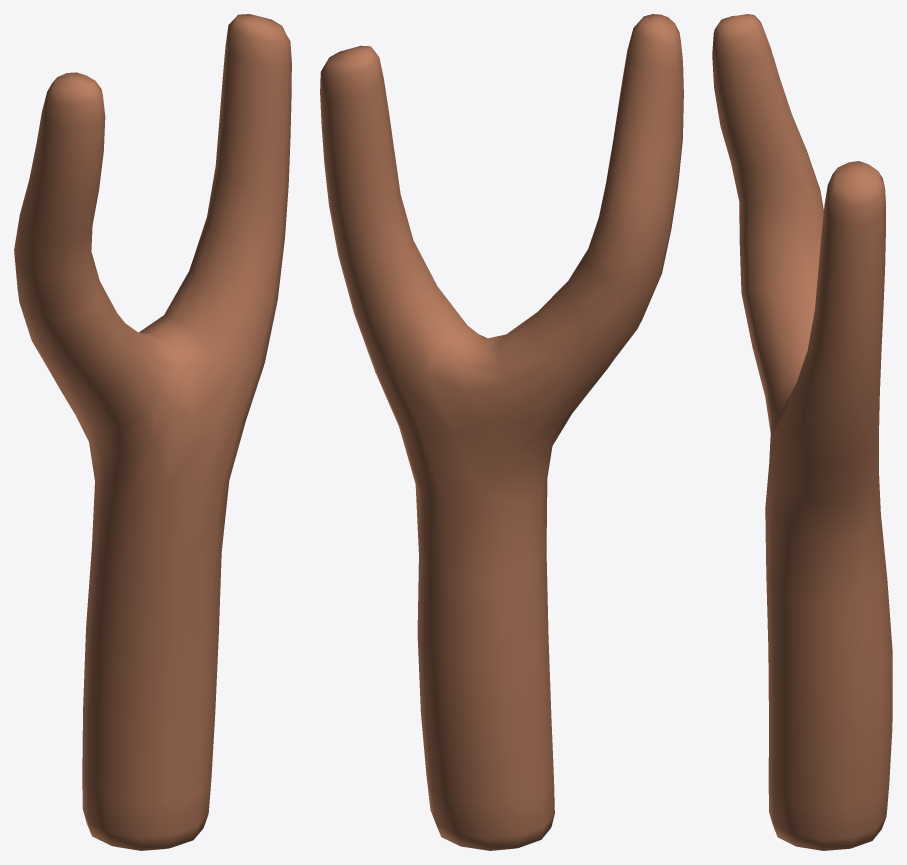
File: Tree_Btm_A_01.fbx
The picture shows the model from 3 angles, left to right: view 1: azimuth 30°, elevation 25°; view 2: azimuth 150°, elevation 25°; view 3: azimuth 270°, elevation 25°; orthographic projection. The views are drawn at different scales.
Parts seen in each view (by area): view 1: Tree_Btm_A_01_LOD0; view 2: Tree_Btm_A_01_LOD0; view 3: Tree_Btm_A_01_LOD0.
Boxes of the visible parts, x1,y1,x2,y2 form: Tree_Btm_A_01_LOD0: [14, 14, 291, 850]; Tree_Btm_A_01_LOD0: [320, 14, 683, 850]; Tree_Btm_A_01_LOD0: [712, 14, 892, 850].
Size of what is drawn, in the model's own units: 250 by 639 by 137.
